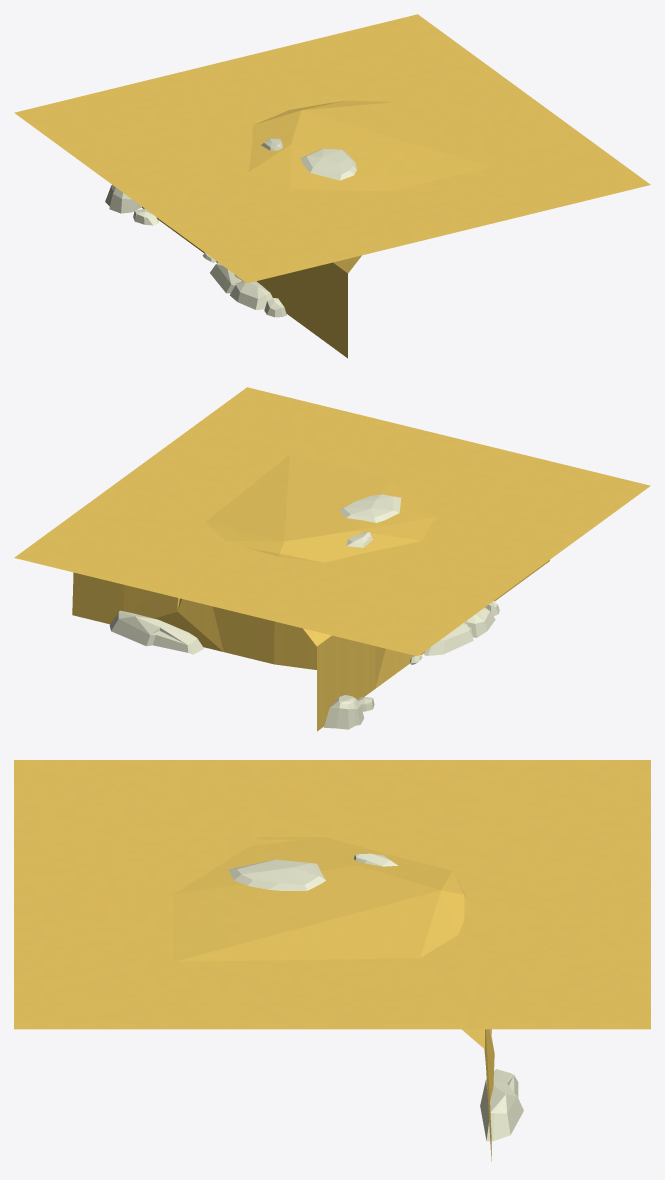
3 renders of one model, top to bottom at view 1: azimuth 30°, elevation 25°; view 2: azimuth 150°, elevation 25°; view 3: azimuth 270°, elevation 25°, orthographic. The views are drawn at different scales.
Parts seen in each view (by area): view 1: BG_desert_03, BG_desert_02, BG_desert_01; view 2: BG_desert_03, BG_desert_02, BG_desert_01; view 3: BG_desert_03, BG_desert_02, BG_desert_01.
Part boxes in pixels (bbox=[...]): BG_desert_03: bbox=[230, 65, 650, 358]; BG_desert_02: bbox=[105, 14, 549, 357]; BG_desert_01: bbox=[14, 64, 447, 283]; BG_desert_03: bbox=[72, 387, 549, 669]; BG_desert_02: bbox=[14, 412, 549, 731]; BG_desert_01: bbox=[216, 437, 650, 656]; BG_desert_03: bbox=[14, 837, 523, 1161]; BG_desert_02: bbox=[14, 837, 650, 1029]; BG_desert_01: bbox=[14, 760, 650, 894].
Size of the model in its own units: 80 by 20.96 by 80.
